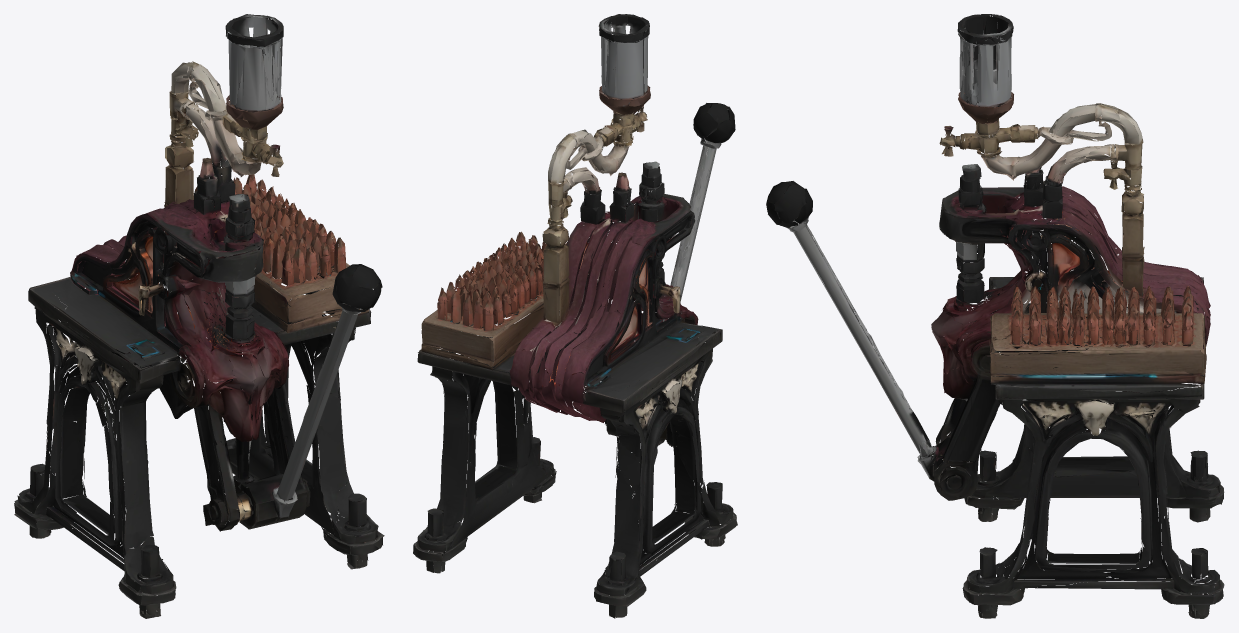
File: prop_camp_vesper_ammo_press.glb
The picture shows the model from 3 angles, left to right: view 1: azimuth 30°, elevation 25°; view 2: azimuth 150°, elevation 25°; view 3: azimuth 270°, elevation 25°; orthographic projection. The views are drawn at different scales.
Parts seen in each view (by area): view 1: node_0; view 2: node_0; view 3: node_0.
Boxes of the visible parts, left/top/right/bottom form: node_0: left=14, top=14, right=384, bottom=618; node_0: left=413, top=14, right=737, bottom=618; node_0: left=766, top=14, right=1224, bottom=618.
Bounding box in the file's own units: 0.4235 × 0.9344 × 0.7142.
Materials: 1 (1 with a texture image).
